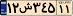character: (19, 2, 33, 14), (32, 1, 41, 14), (47, 2, 56, 14), (41, 1, 48, 15), (12, 1, 19, 14), (64, 3, 70, 15), (7, 1, 12, 15), (58, 4, 64, 14)
